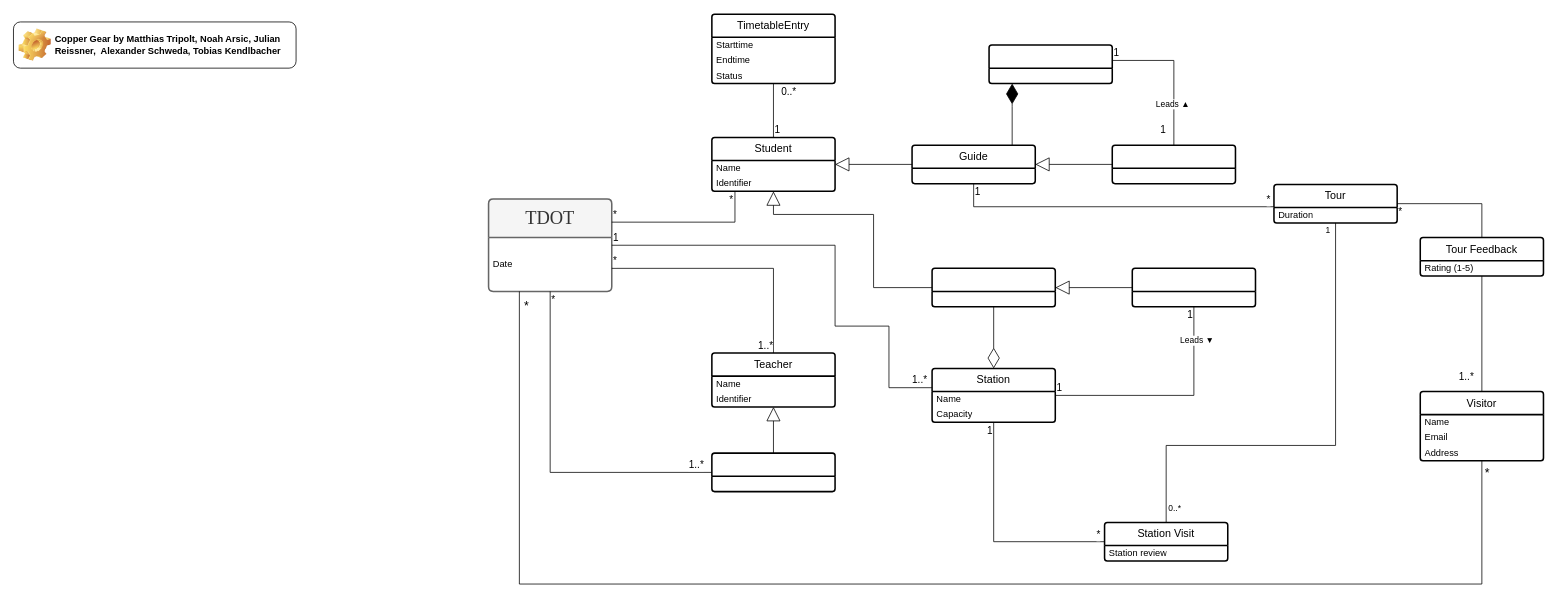
The diagram is 1558 pixels wide and 598 high, and some of its shapes have lost their labels. The centre of each missing label's shape, as x and y in pixels:
Guide Team: point (1050, 64)
Organiser: point (773, 472)
Station Leader: point (1193, 287)
Station Worker: point (993, 287)
Team Leader: point (1173, 164)
